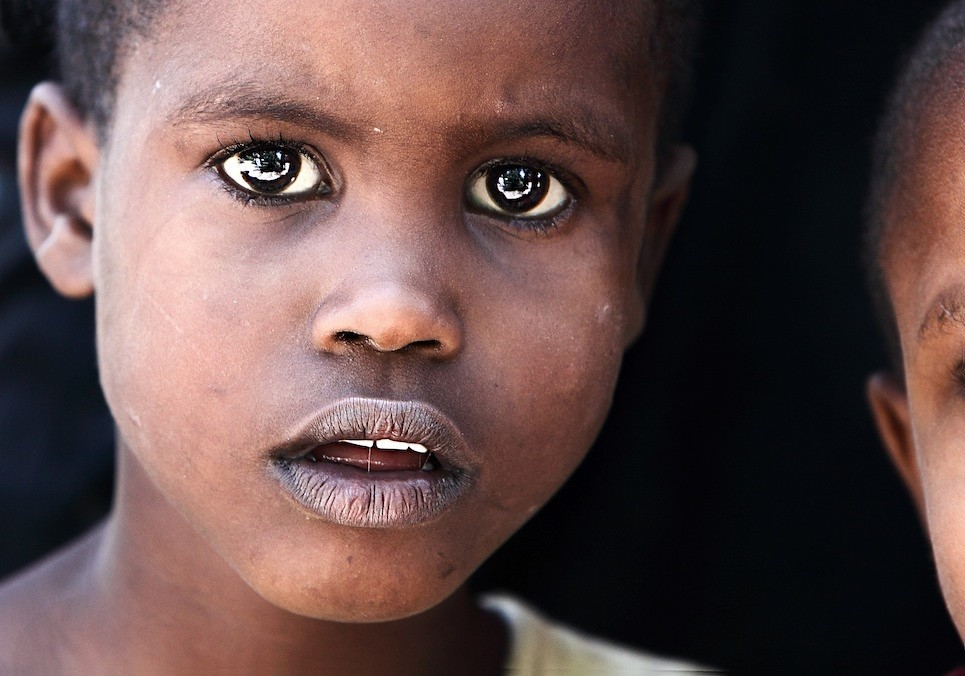face_no_mask: (18, 4, 716, 624)
